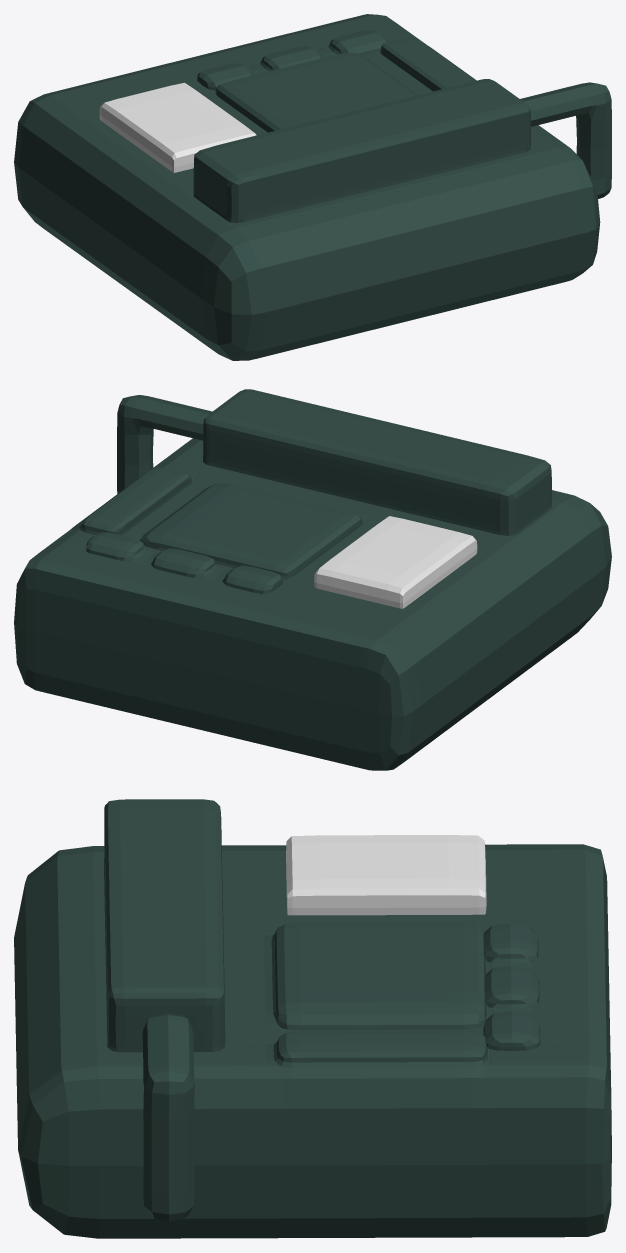
File: Office_Phone.fbx
3 views of the same model, one above another, from view 1: azimuth 30°, elevation 25°; view 2: azimuth 150°, elevation 25°; view 3: azimuth 270°, elevation 25° (orthographic). The views are drawn at different scales.
Visible parts, largest first — view 1: Cube.014; view 2: Cube.014; view 3: Cube.014.
Part boxes in pixels (left/top/right/bottom): Cube.014: left=14, top=14, right=611, bottom=360; Cube.014: left=14, top=389, right=611, bottom=770; Cube.014: left=14, top=799, right=611, bottom=1238.
Bounding box in the file's own units: 67.75 × 25.17 × 59.44.
